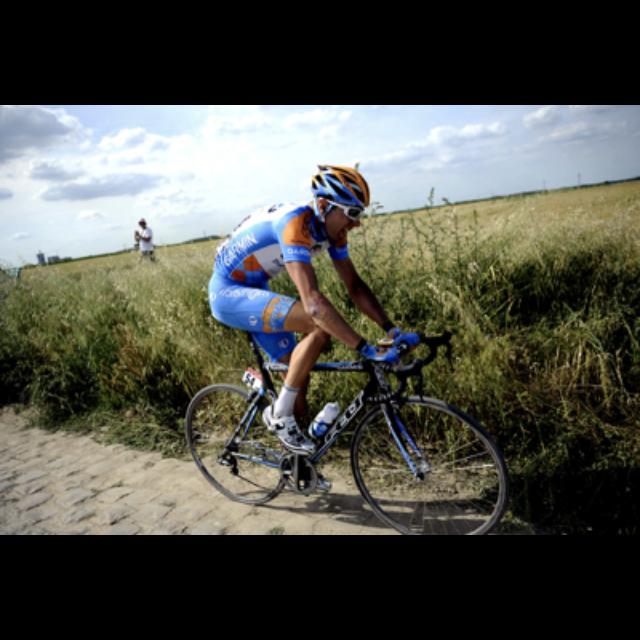With Helmet: (307, 160, 373, 246)
